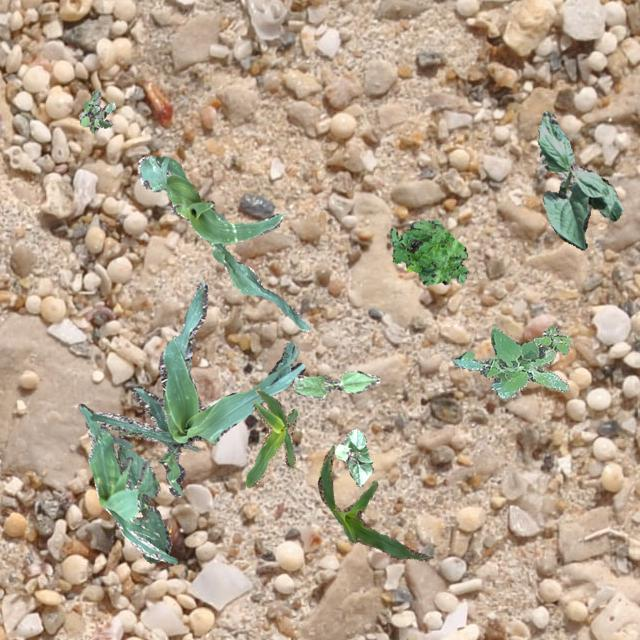crop: (88, 280, 304, 496), (136, 154, 308, 330), (77, 402, 176, 562), (316, 444, 432, 560), (536, 110, 622, 248), (116, 446, 170, 562), (244, 388, 296, 486), (292, 369, 379, 398), (334, 428, 372, 486)
weed: (452, 324, 570, 396), (388, 218, 468, 284), (78, 88, 114, 132)
